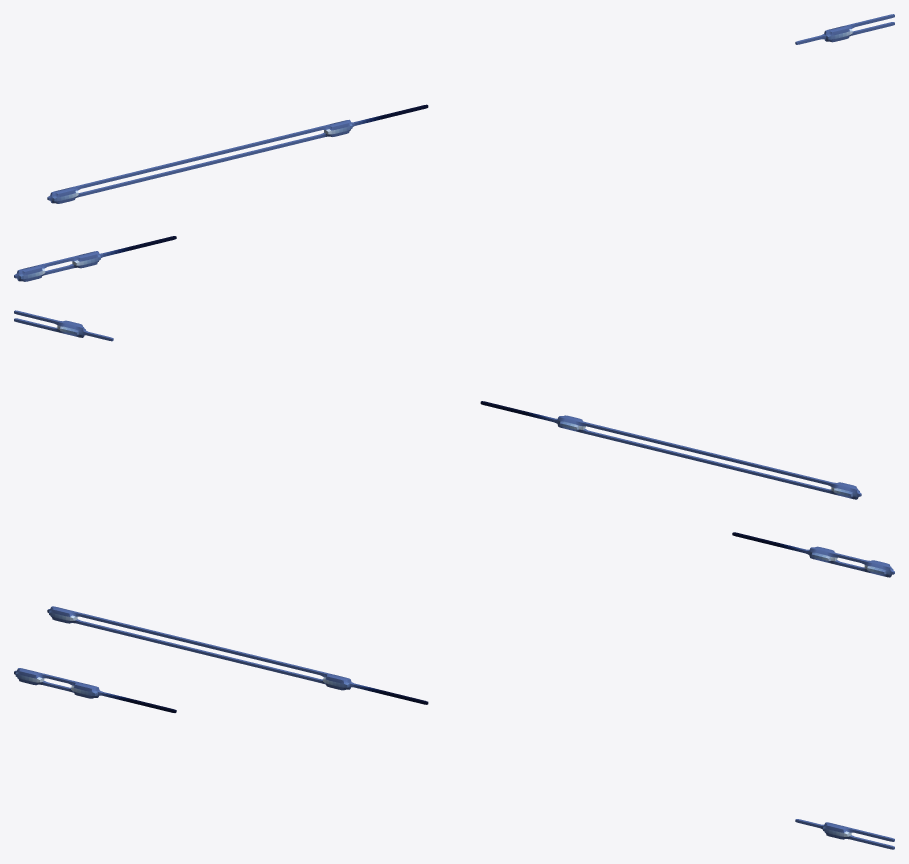
Rendered from Fight_026_2_19.obj.
3 renders of one model, top to bottom at view 1: azimuth 30°, elevation 25°; view 2: azimuth 150°, elevation 25°; view 3: azimuth 330°, elevation 25°, orthographic.
Size of the model in its own units: 23.76 by 2.1 by 0.2837.
